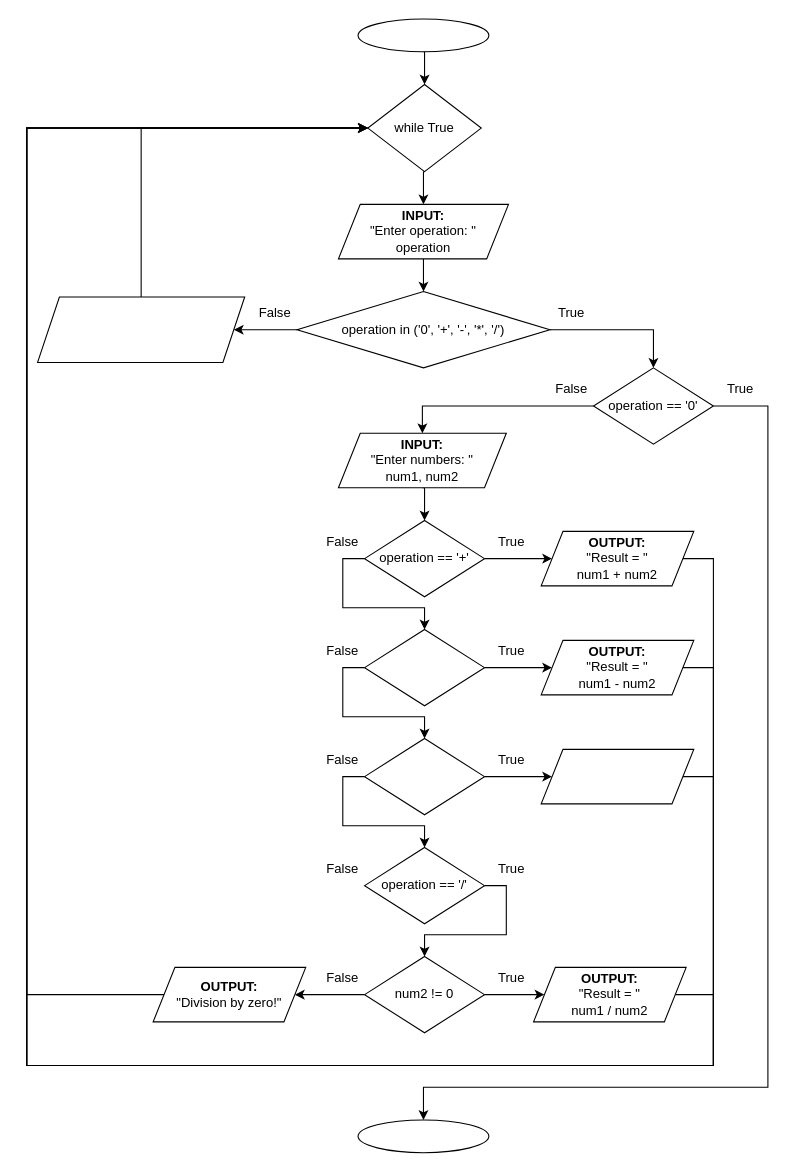
The diagram is 796 pixels wide and 1172 high, and some of its shapes have lost their labels. The centre of each missing label's shape, as x and y in pixels:
BEGIN: the point at 423,35
END: the point at 423,1136
operation == '*': the point at 424,776
operation == '-': the point at 424,667
OUTPUT: "Result = " num1 * num2: the point at 617,776
OUTPUT: "Unsupported operation!": the point at 141,329
